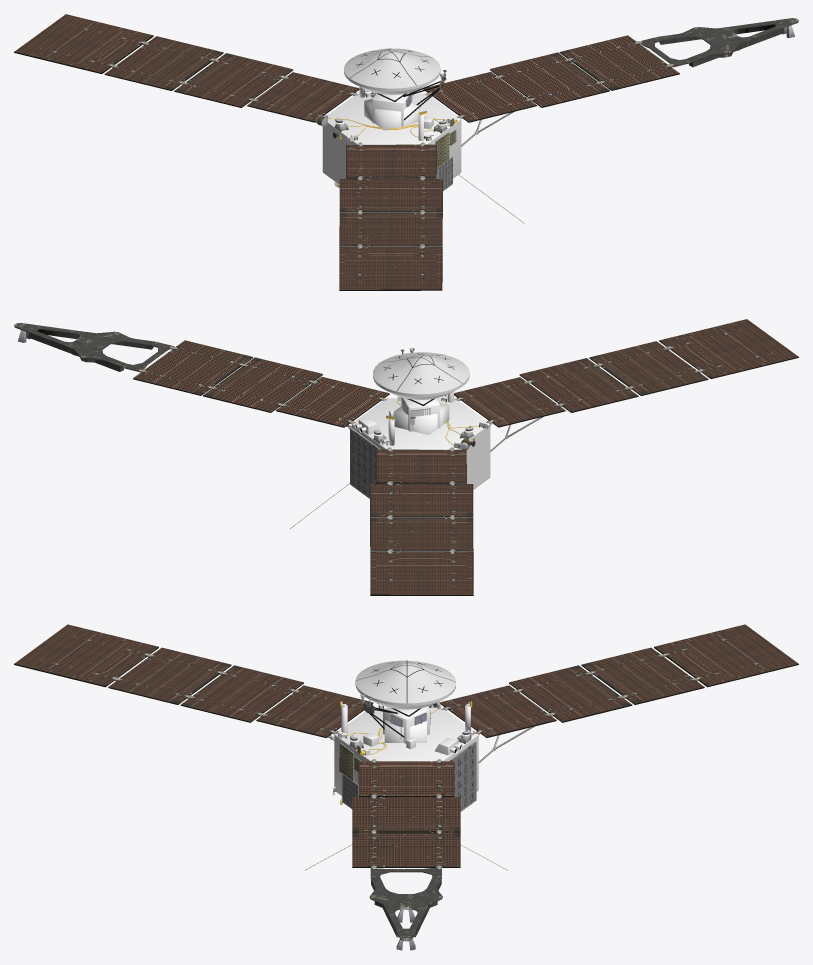
File: juno.glb
The picture shows the model from 3 angles, top to bottom: view 1: azimuth 30°, elevation 25°; view 2: azimuth 150°, elevation 25°; view 3: azimuth 270°, elevation 25°; orthographic projection. The views are drawn at different scales.
Visible parts, largest first — view 1: shiny_panels, silver_foil.002, dish_top, solar_panels, black_krinkle, tex_01, silver_foil, _root, dish_bottom; view 2: shiny_panels, silver_foil.002, dish_top, tex_01, solar_panels, black_krinkle, silver_foil, _root; view 3: shiny_panels, tex_01, silver_foil.002, dish_top, solar_panels, black_krinkle, silver_foil, _root.
Boxes of the visible parts, box(x1,y1,x2,y2) form: shiny_panels: box(14, 14, 679, 289); silver_foil.002: box(322, 93, 461, 184); dish_top: box(344, 48, 440, 88); solar_panels: box(639, 18, 798, 67); black_krinkle: box(14, 36, 679, 290); tex_01: box(110, 25, 794, 247); silver_foil: box(335, 87, 452, 141); _root: box(364, 98, 419, 130); dish_bottom: box(344, 69, 440, 94); shiny_panels: box(133, 319, 798, 594); silver_foil.002: box(351, 398, 490, 489); dish_top: box(373, 352, 469, 394); tex_01: box(17, 330, 702, 552); solar_panels: box(14, 323, 173, 371); black_krinkle: box(133, 340, 798, 595); silver_foil: box(354, 391, 490, 445); _root: box(393, 403, 449, 434); shiny_panels: box(14, 624, 798, 866); tex_01: box(112, 653, 699, 950); silver_foil.002: box(334, 708, 478, 795); dish_top: box(355, 660, 455, 703); solar_panels: box(369, 868, 442, 941); black_krinkle: box(14, 647, 798, 867); silver_foil: box(338, 704, 473, 800); _root: box(384, 720, 426, 742).
Size of the model in its own units: 17.65 by 4.26 by 18.54.
13 materials, 6 textured.
